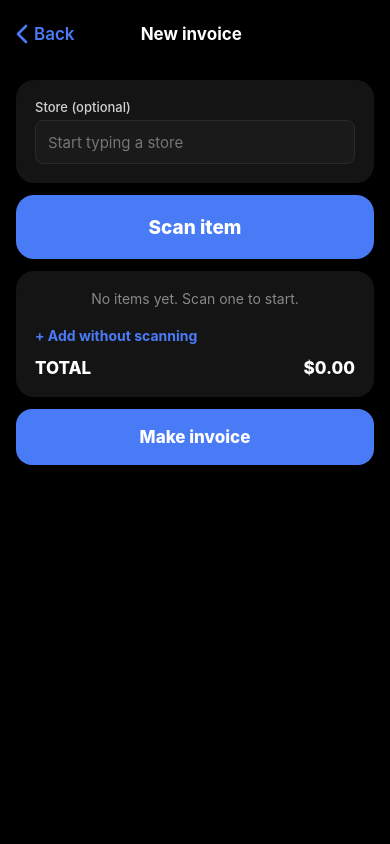
Test case: EasyInvoice › Add without scanning, then tap the line and Remove it
This screenshot has width=390, height=844.
Click the button "+ Add without scanning": [116, 332] box [35,315,197,348]
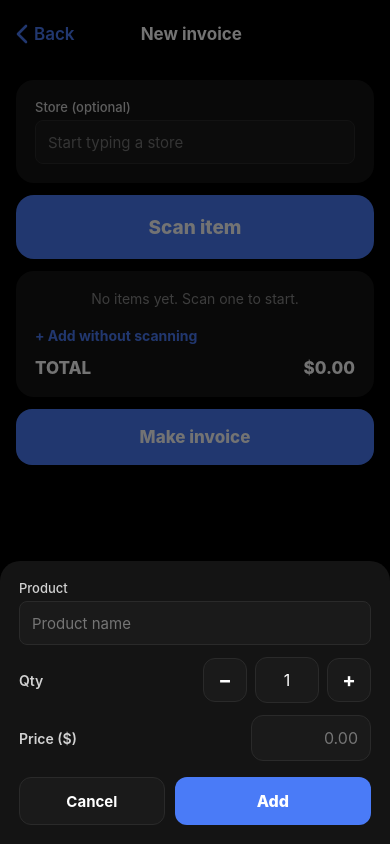
In the field with placeholder "Product name": [195, 623] box [19,601,371,645], type "Gildan tee"
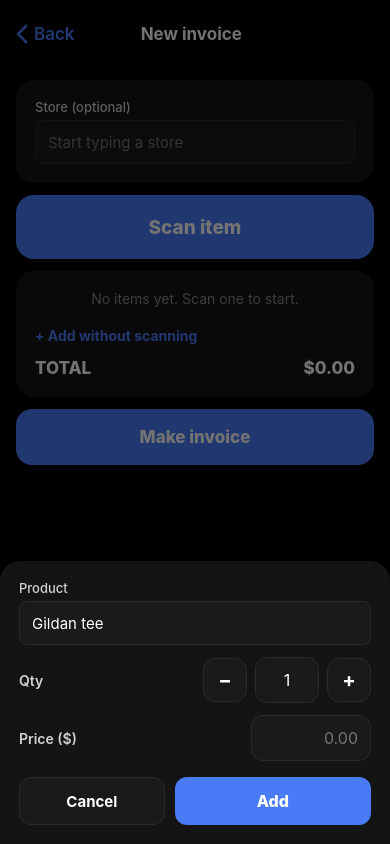
In the number field named "Price": [311, 738] box [251,715,371,761], type "6"
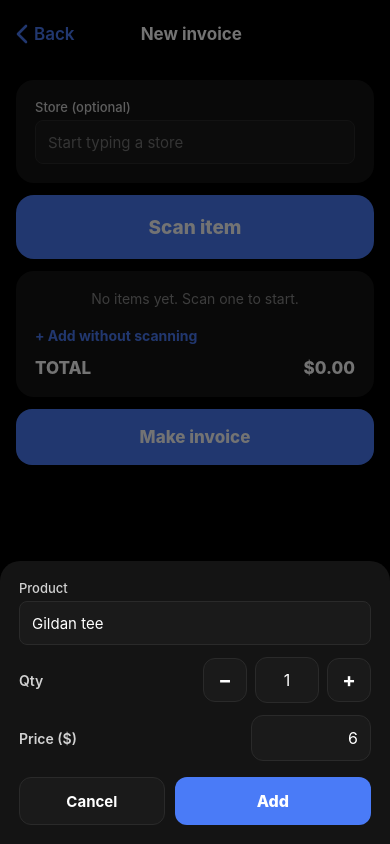
Click the button "Add": [273, 801] box [175,777,371,825]
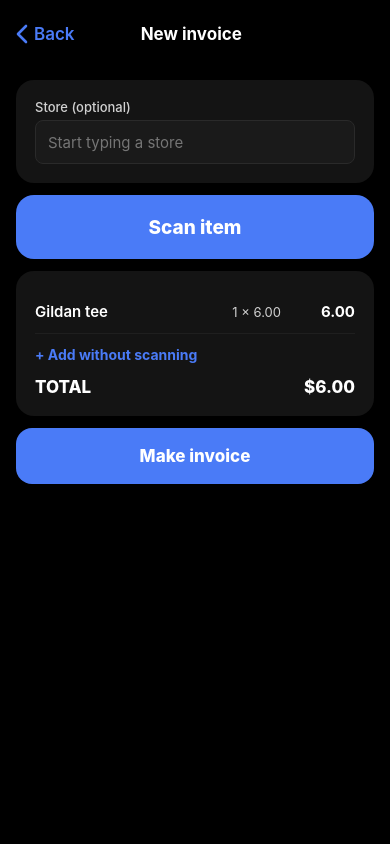
Click the text "Gildan tee": [71, 312] box [35,302,108,321]
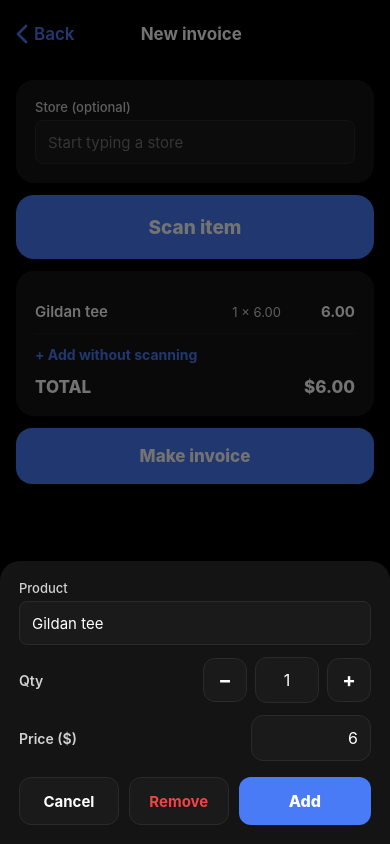
Click the button "Remove": [179, 801] box [129,777,229,825]
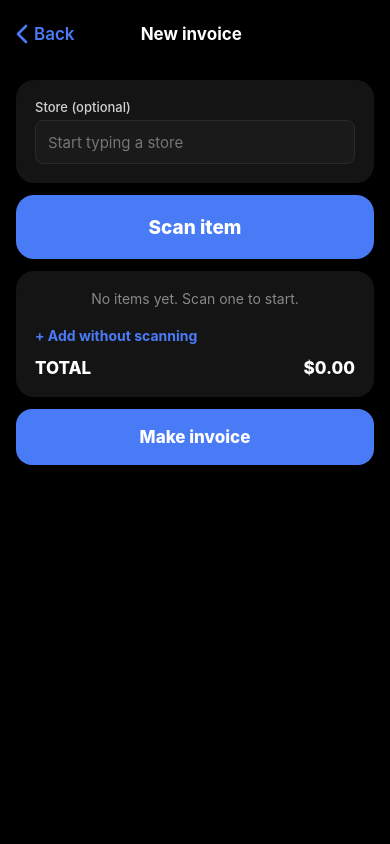
Check: the text "No items yet. Scan one to start." is shown, box [91,290,299,307]
